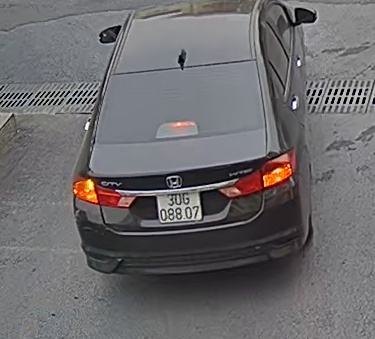vehicle plate: (151, 187, 202, 223)
